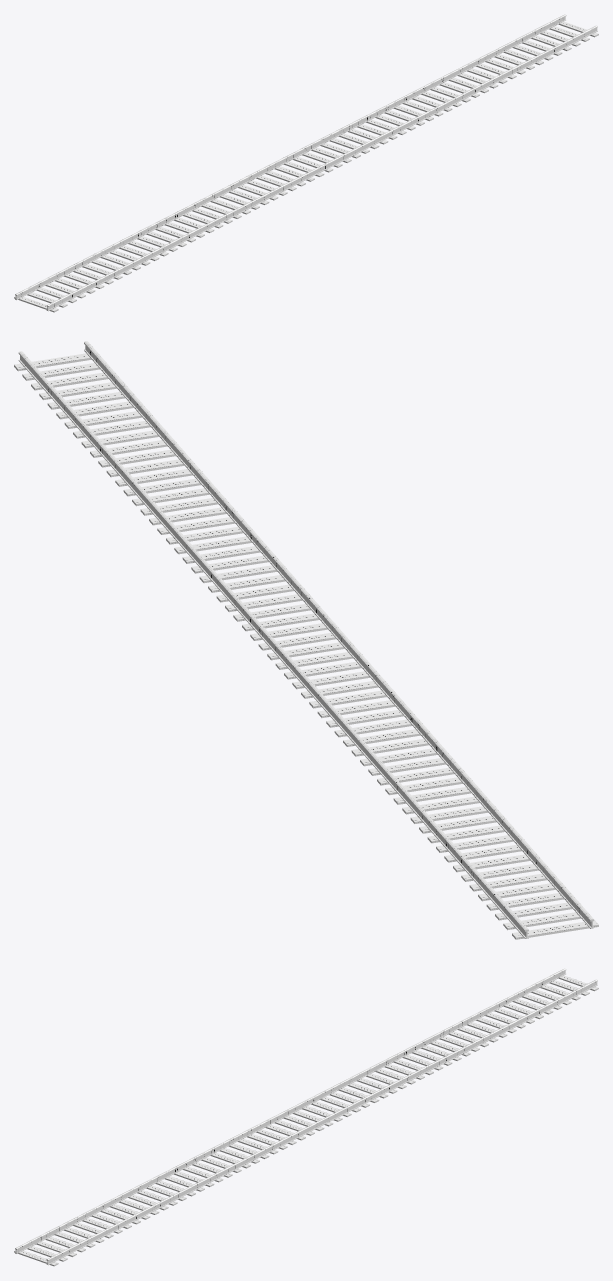
Rendered from rail.obj.
3 views of the same model, one above another, from view 1: azimuth 90°, elevation 25°; view 2: azimuth 150°, elevation 25°; view 3: azimuth 270°, elevation 25° (orthographic). The views are drawn at different scales.
Visible parts, largest first — view 1: Cube.001; view 2: Cube.001; view 3: Cube.001.
Part boxes in pixels (left/top/right/bottom): Cube.001: left=14, top=14, right=598, bottom=312; Cube.001: left=14, top=341, right=598, bottom=939; Cube.001: left=14, top=968, right=598, bottom=1266.
Bounding box in the file's own units: 15.97 × 0.1709 × 13.54.
